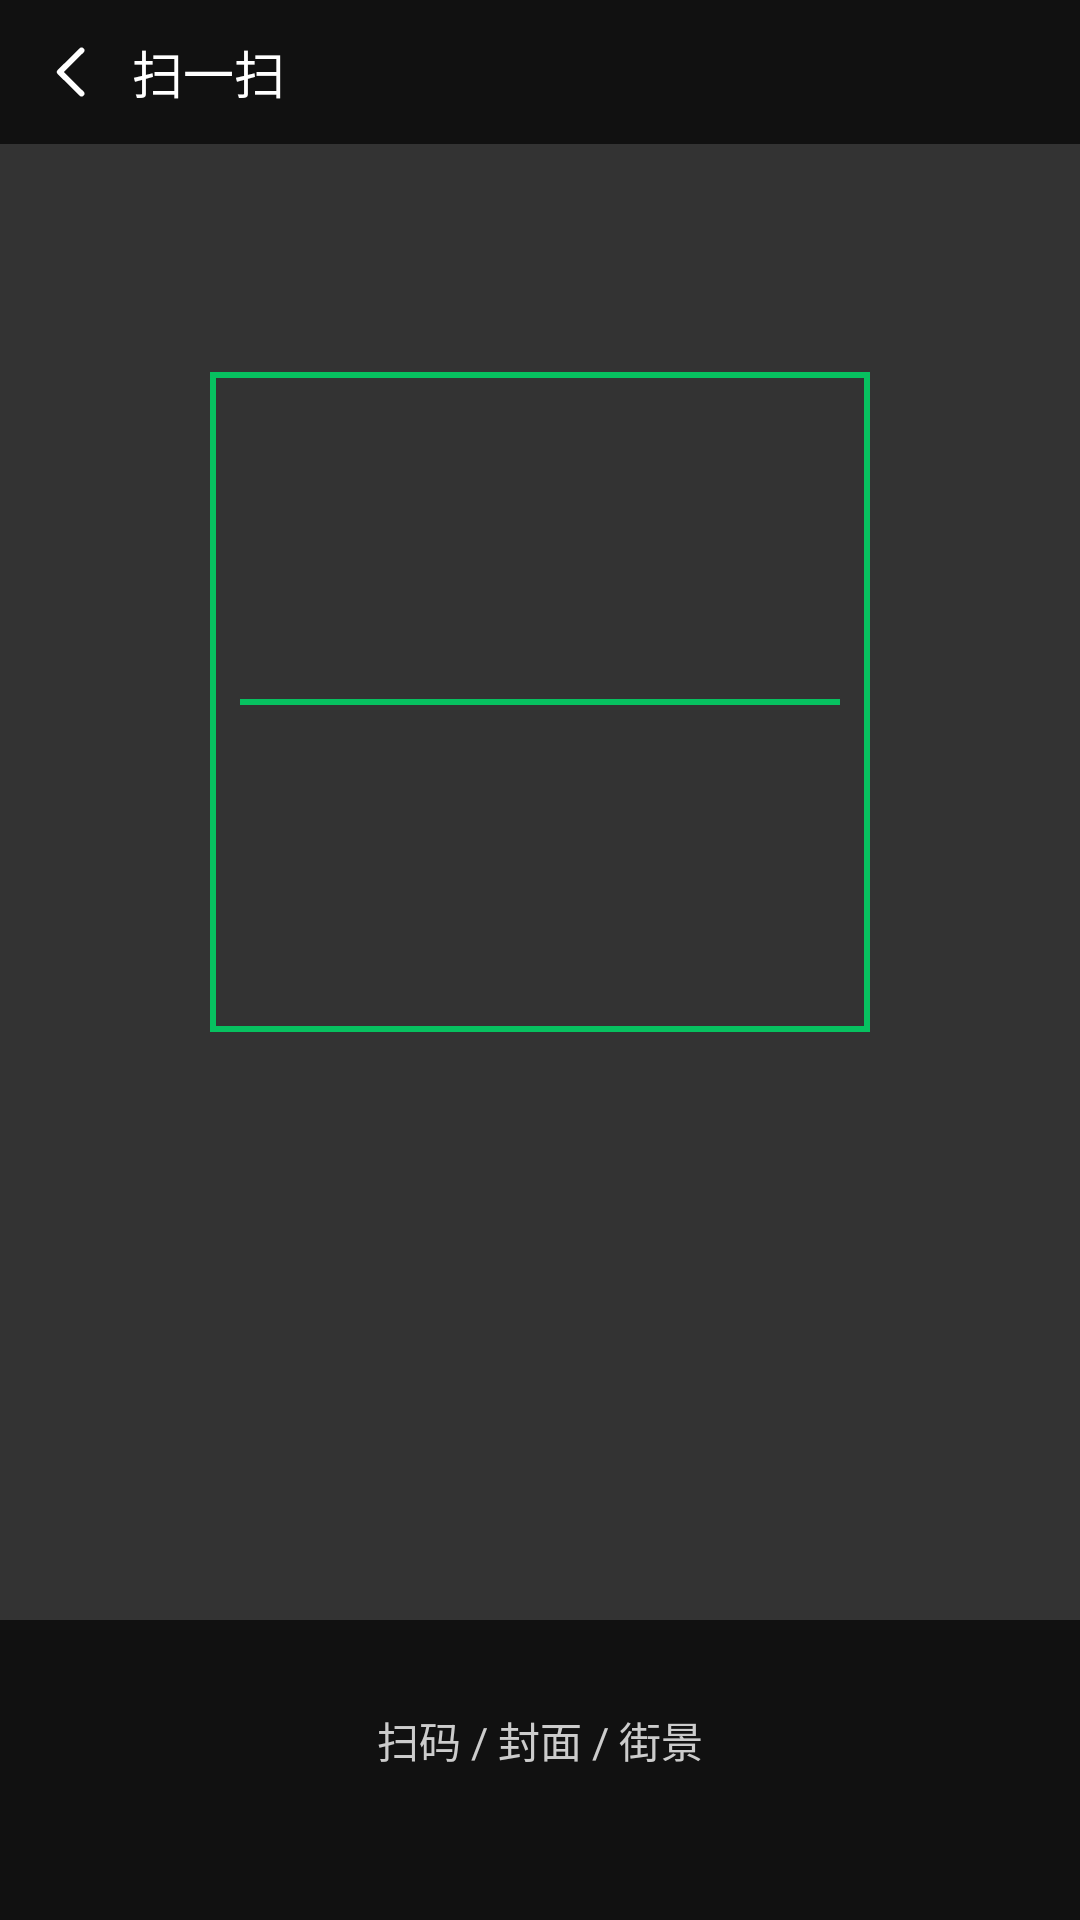

Where icons sit on this 1080px x 1920px app screen, as rect(x1, y1, x2, y2):
back: rect(56, 47, 85, 97)
